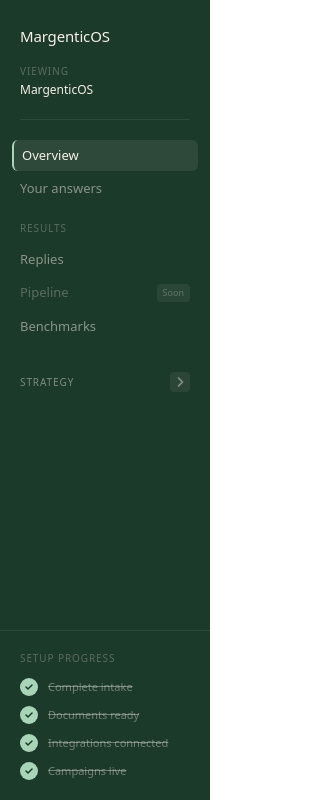
Test: collapsed once everything is approved › opens on click and closes again
Click the button "Strategy". click: (105, 382)
box: [12,366,198,398]
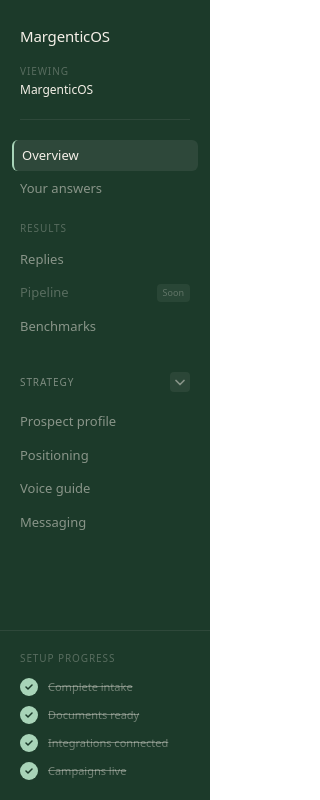
Result: the text "Messaging" is shown at [20,512,86,532]
Click the button "Strategy". click: (105, 382)
box: [12,366,198,398]
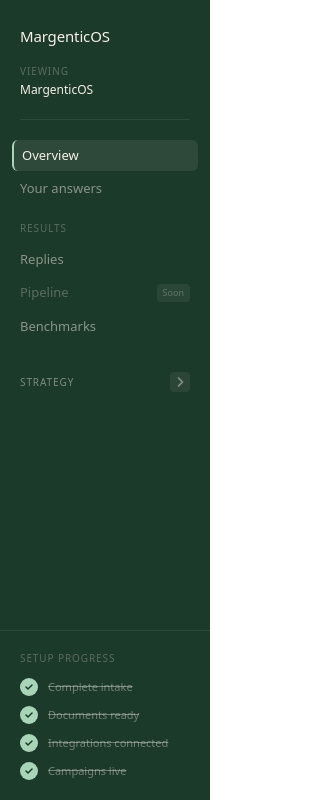
Result: the link "Messaging" is gone
